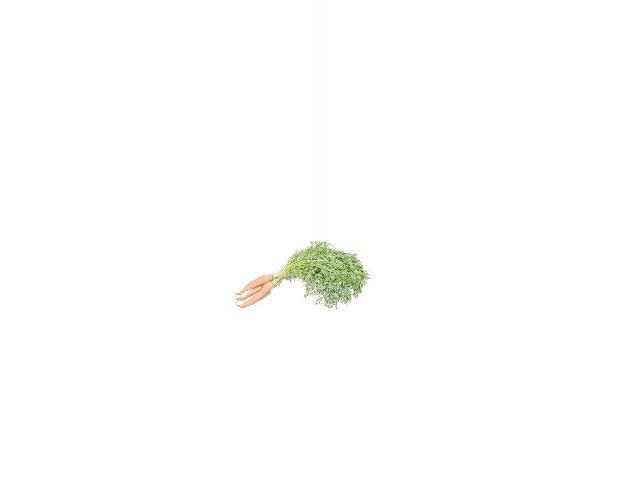carrot: (241, 282, 277, 308)
